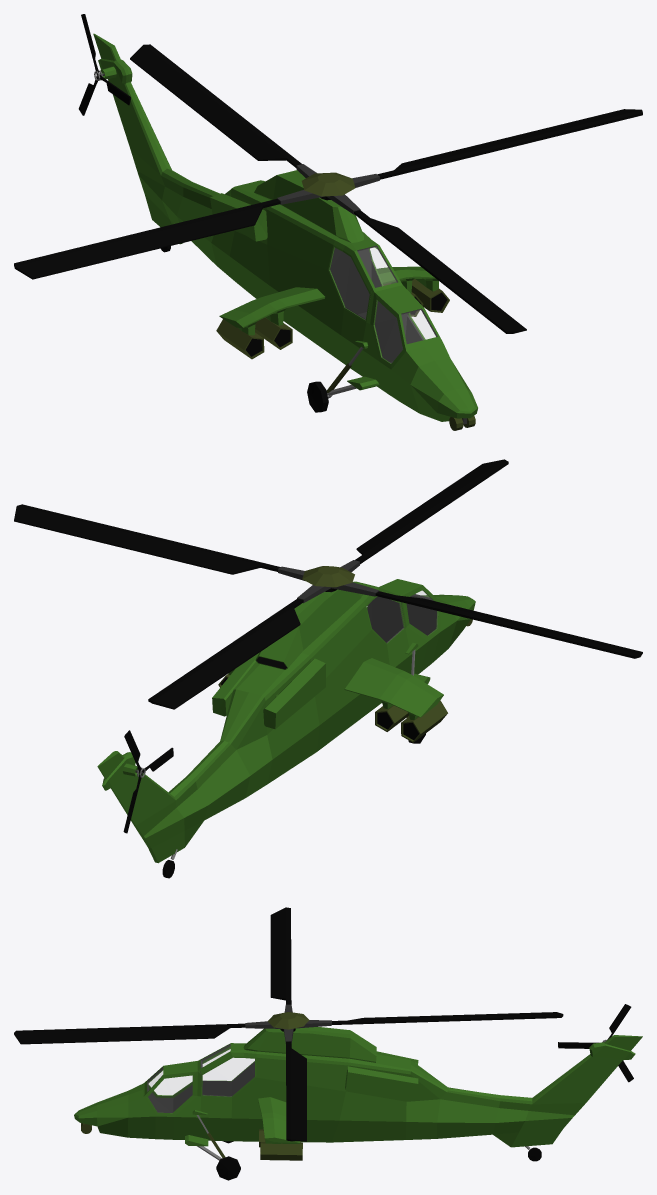
3 renders of one model, top to bottom at view 1: azimuth 30°, elevation 25°; view 2: azimuth 150°, elevation 25°; view 3: azimuth 270°, elevation 25°, orthographic. The views are drawn at different scales.
Visible parts, largest first — view 1: Circle.021, Circle.022, Landing gear _F.003, Circle.023, Circle.027, Circle.026; view 2: Circle.021, Circle.022, Circle.023; view 3: Circle.021, Circle.022, Landing gear _F.003, Circle.023, Circle.025, Circle.024.
Boxes of the visible parts, x1,y1,x2,y2 form: Circle.021: (93, 33, 477, 430); Circle.022: (14, 44, 642, 333); Landing gear _F.003: (307, 347, 363, 412); Circle.023: (78, 14, 130, 115); Circle.027: (370, 292, 405, 369); Circle.026: (328, 240, 372, 322); Circle.021: (97, 579, 475, 863); Circle.022: (14, 459, 642, 709); Circle.023: (123, 730, 173, 833); Circle.021: (74, 1027, 642, 1160); Circle.022: (14, 907, 563, 1141); Landing gear _F.003: (196, 1115, 240, 1180); Circle.023: (558, 1004, 633, 1082); Circle.025: (144, 1071, 197, 1116); Circle.024: (200, 1052, 256, 1097).
Bounding box in the file's own units: 1429 × 429 × 1635.
